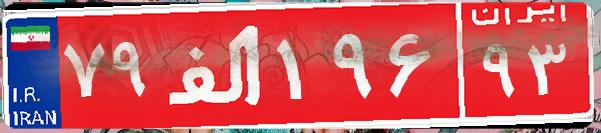1: (273, 28, 330, 110)
3: (525, 38, 570, 115)
6: (385, 28, 445, 110)
7: (57, 26, 110, 107)
9: (330, 28, 385, 110), (475, 38, 525, 113), (110, 28, 158, 105)
الف: (158, 15, 273, 115)
